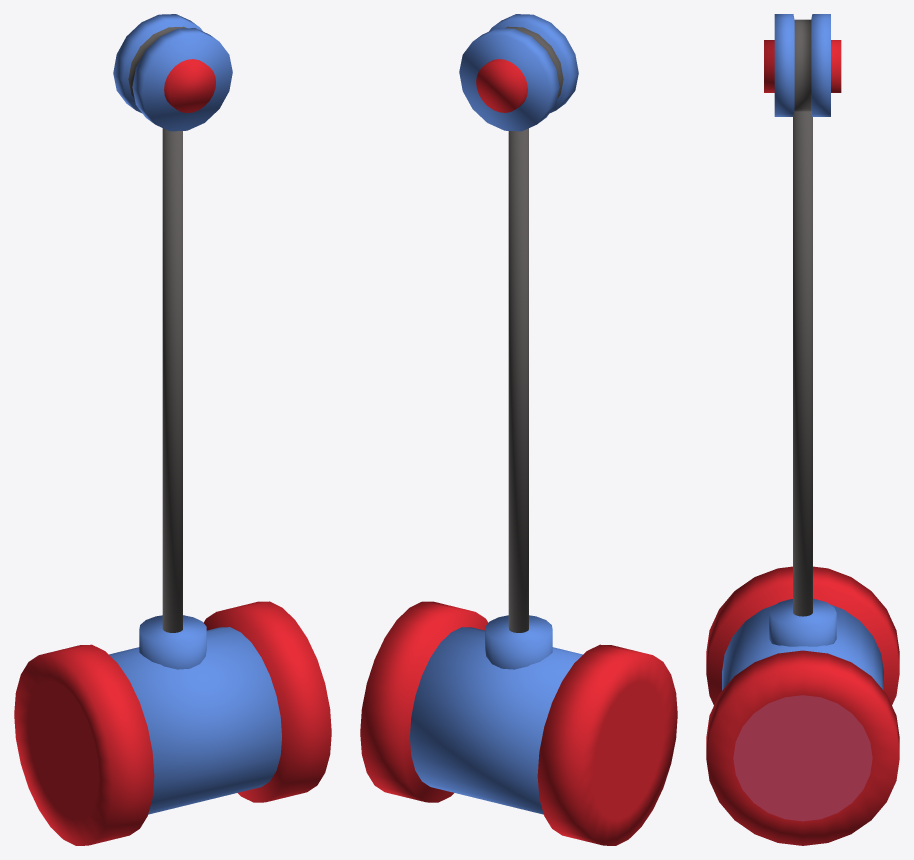
The model's file is Obstacle 4 V1.fbx.
3 renders of one model, left to right at view 1: azimuth 30°, elevation 25°; view 2: azimuth 150°, elevation 25°; view 3: azimuth 270°, elevation 25°, orthographic.
Parts seen in each view (by area): view 1: O4 Part 2, O4 Part 1; view 2: O4 Part 2, O4 Part 1; view 3: O4 Part 2, O4 Part 1.
Boxes of the visible parts, x1=… form: O4 Part 2: x1=14, y1=128, x2=331, y2=845; O4 Part 1: x1=113, y1=14, x2=232, y2=131; O4 Part 2: x1=360, y1=128, x2=677, y2=845; O4 Part 1: x1=459, y1=14, x2=578, y2=131; O4 Part 2: x1=706, y1=111, x2=899, y2=845; O4 Part 1: x1=764, y1=14, x2=841, y2=116.
Bounding box in the file's own units: 54.61 × 188 × 42.49.
1 material, 1 textured.
